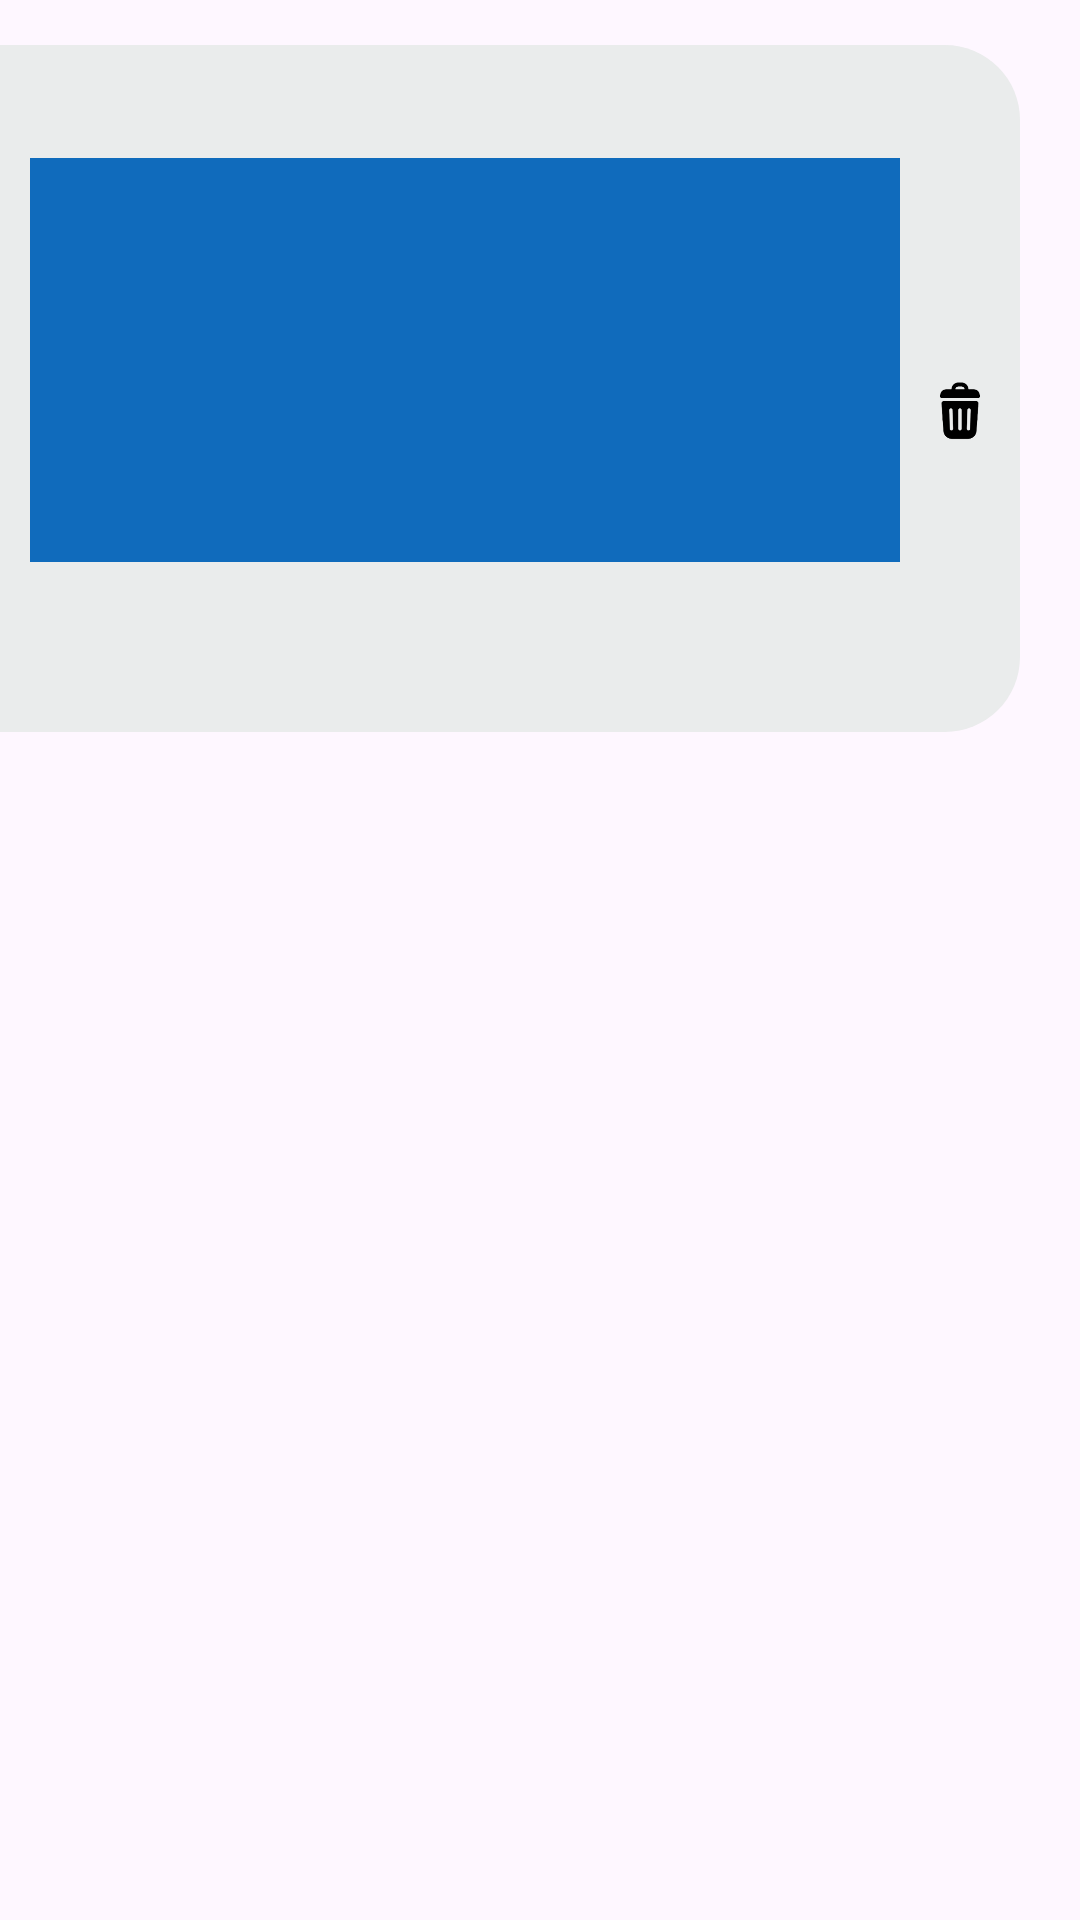

Screen size 1080px×1920px. Icon name, then its box in pixels as (x1, y1, x2, y2):
delete: (940, 382, 980, 439)
